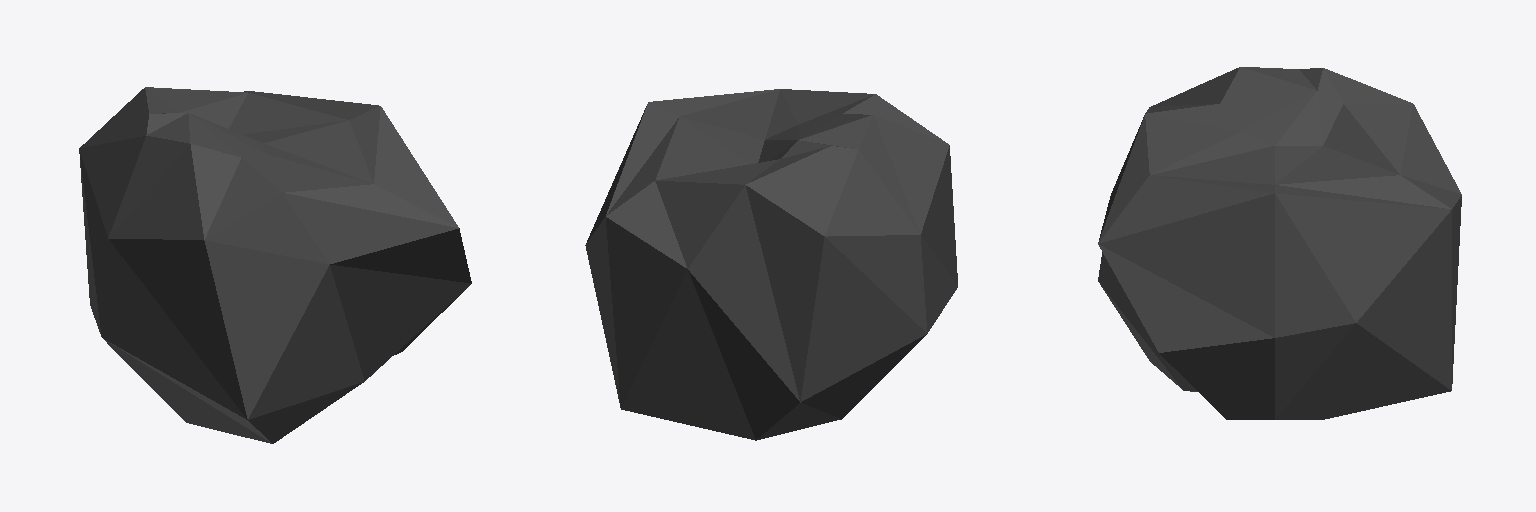
Rendered from kamen.obj.
3 renders of one model, left to right at view 1: azimuth 30°, elevation 25°; view 2: azimuth 150°, elevation 25°; view 3: azimuth 270°, elevation 25°, orthographic.
Parts seen in each view (by area): view 1: Sphere003; view 2: Sphere003; view 3: Sphere003.
Part boxes in pixels (bbox=[...]): Sphere003: bbox=[79, 87, 471, 443]; Sphere003: bbox=[585, 89, 957, 440]; Sphere003: bbox=[1098, 67, 1461, 419].
Size of the model in its own units: 188 by 169 by 189.